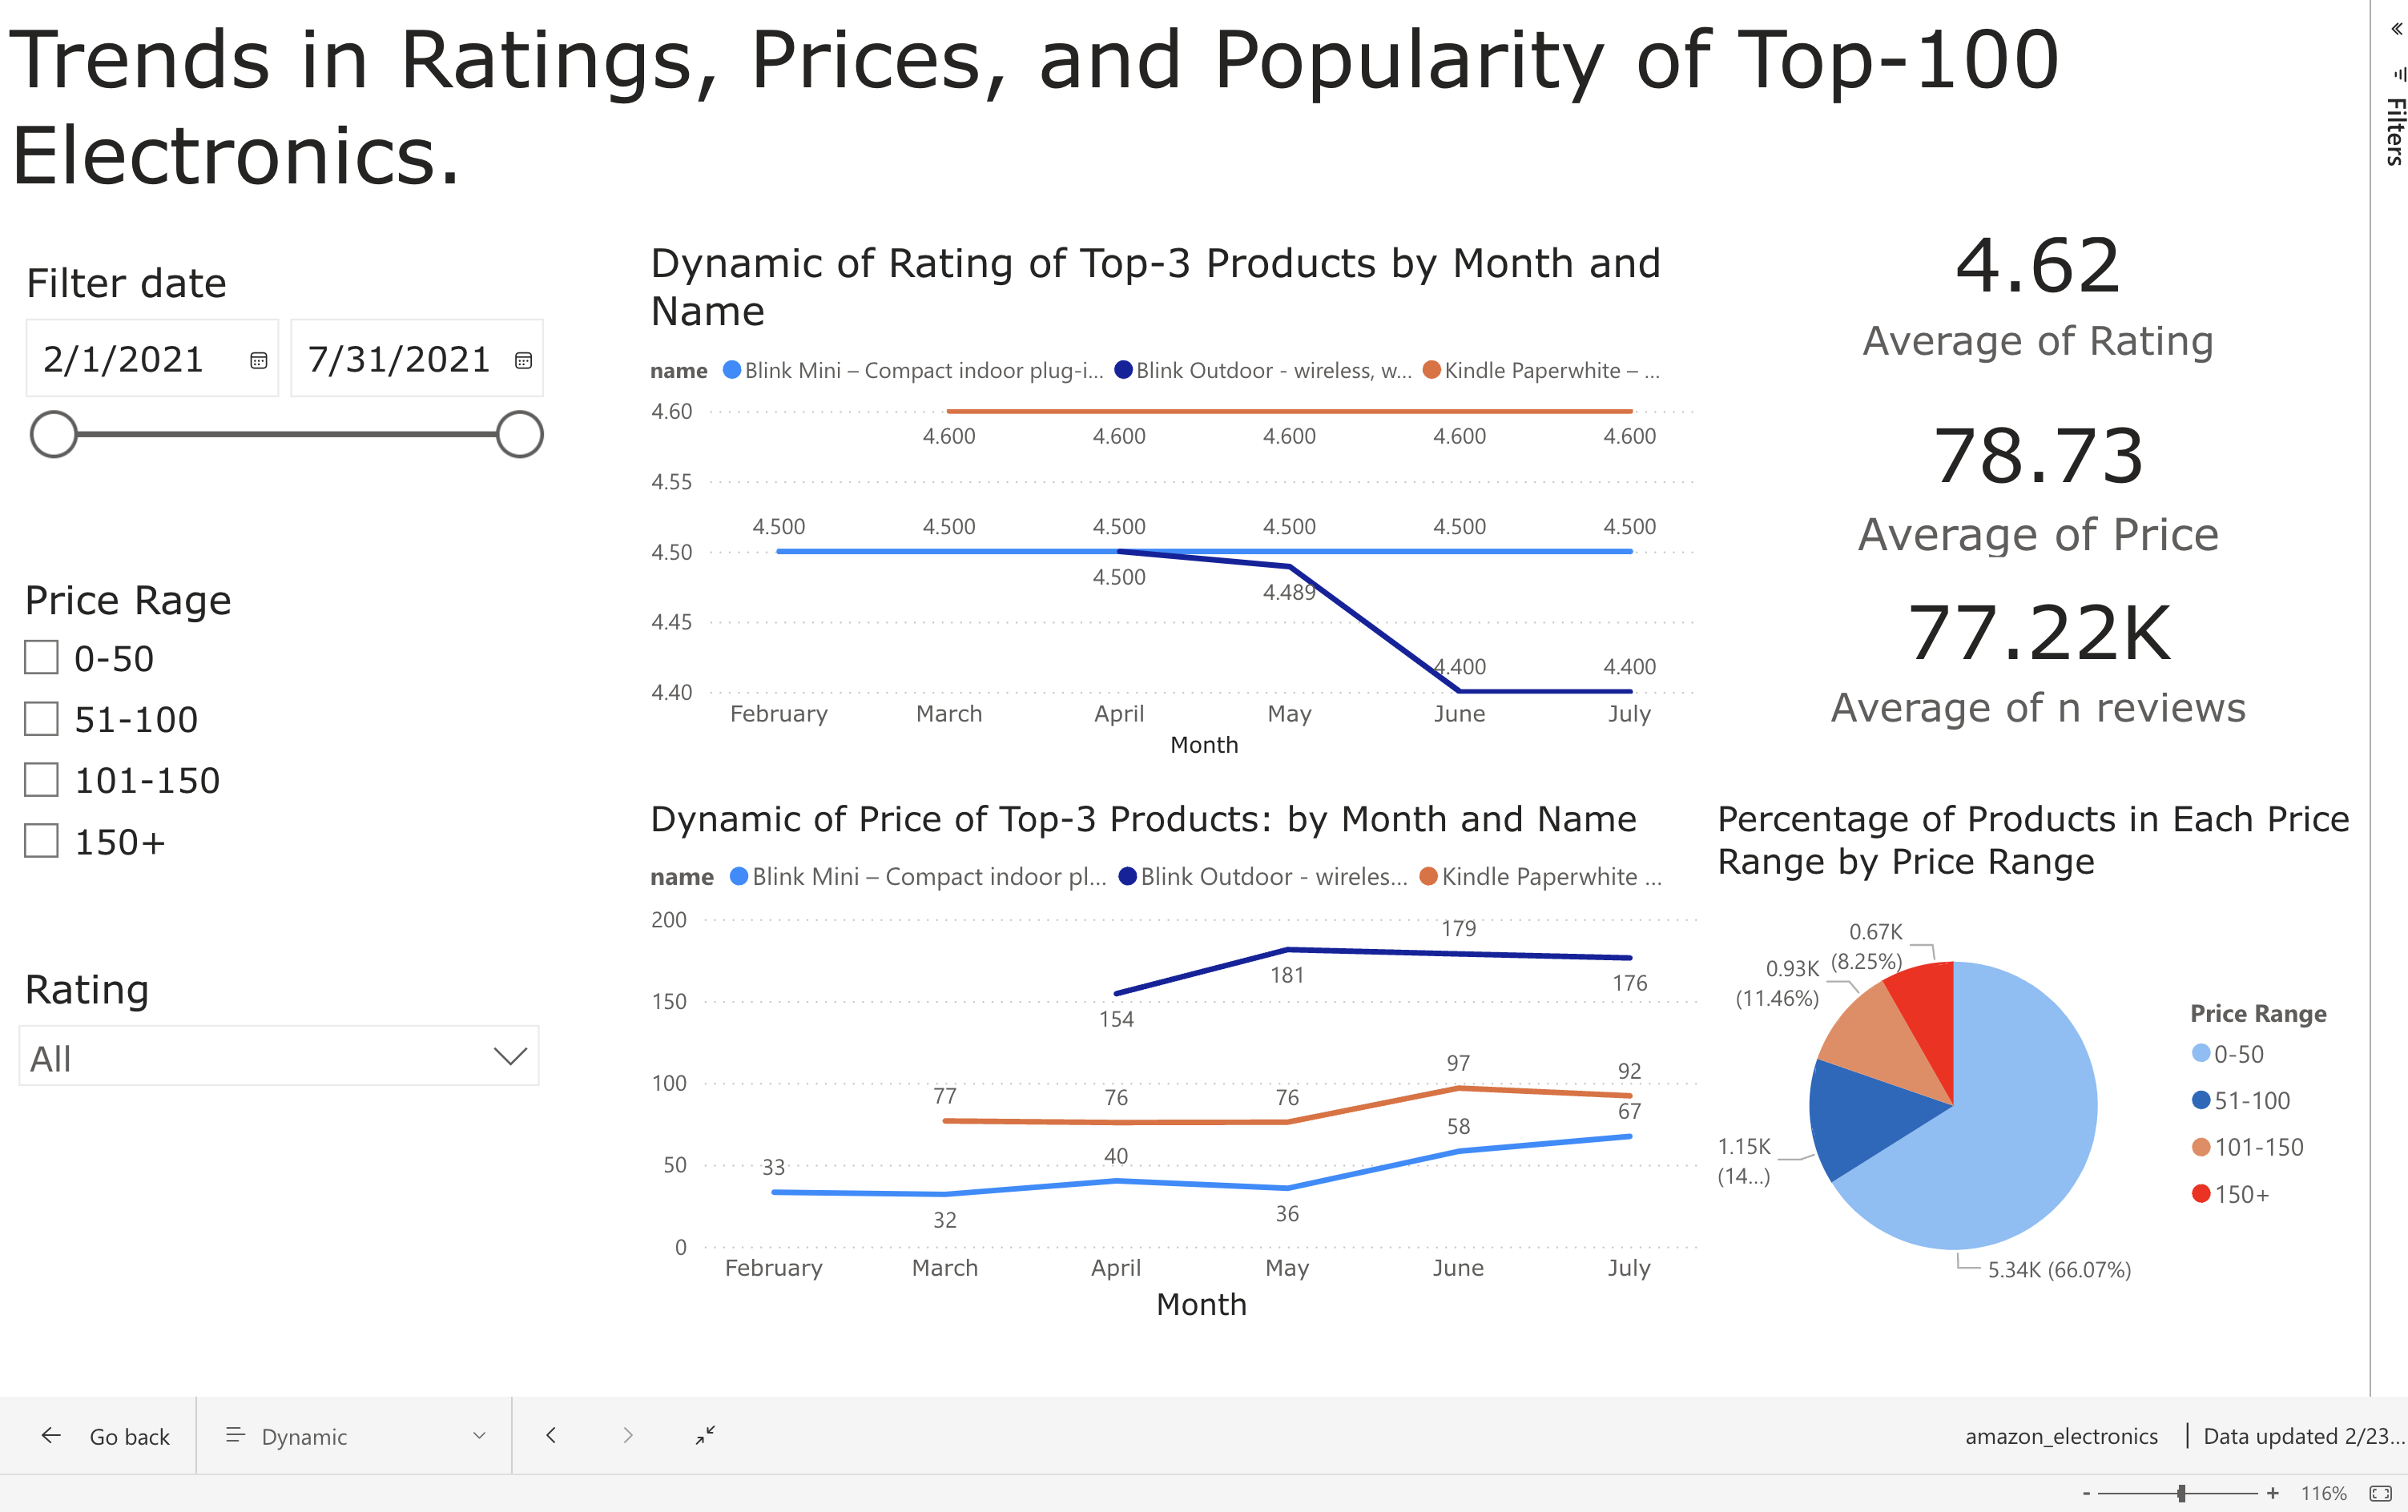

The page's visual inventory and layout, read from the dashboard file:
{"tool":"powerbi","page":{"name":"Page 1","canvas":[1280,720],"ordinal":0},"visuals":[{"type":"card","fields":{"Values":["Avg(electronics_data.rating)"]},"box":[1092.9,104.3,187.1,92.9],"z":0},{"type":"slicer","fields":{"Values":["electronics_data.date"]},"box":[0,77.1,225.7,174.3],"z":1000},{"type":"clusteredBarChart","fields":{"Category":["electronics_data.name"],"Y":["electronics_data.Frequency"]},"box":[225,76.7,843.3,160],"z":2000},{"type":"textbox","box":[0,0,1280,75],"z":3000},{"type":"clusteredBarChart","fields":{"Y":["Sum(electronics_data.CombinedScore1)"],"Category":["electronics_data.name"]},"box":[225.7,248.6,842.9,171.4],"z":4000},{"type":"card","fields":{"Values":["Avg(electronics_data.price)"]},"box":[1092.9,197.1,187.1,100],"z":5000},{"type":"card","fields":{"Values":["Avg(electronics_data.n_reviews)"]},"box":[1108.6,297.1,171.4,94.3],"z":6000},{"type":"pieChart","fields":{"Category":["electronics_data.Price Category"],"Y":["CountNonNull(electronics_data.Price Category)"]},"box":[922.1,455.6,358.1,264.8],"z":7000},{"type":"lineChart","fields":{"Category":["electronics_data.date.Variation.Date Hierarchy.Month"],"Y":["Avg(electronics_data.price)"],"Series":["electronics_data.name"]},"box":[447.3,455.6,474.8,264.8],"z":8000},{"type":"slicer","fields":{"Values":["electronics_data.Price Category"]},"box":[0,174.3,225.7,141.4],"z":9000},{"type":"slicer","fields":{"Values":["electronics_data.rating"]},"box":[0,315,226,150],"z":10000},{"type":"lineChart","fields":{"Category":["electronics_data.date.Variation.Date Hierarchy.Month"],"Y":["Avg(electronics_data.rating)"],"Series":["electronics_data.name"]},"box":[0,455.6,447.3,264.8],"z":11000}]}

Visuals, with their boxes on the page's 1280x720 design canvas (x1, y1, x2, y2). These are canvas units, not pixel positions in the 2408x1512 screenshot, which may show the page scaled, cropped or inside an application window:
card - Avg(electronics_data.rating): [1093, 104, 1280, 197]
slicer - electronics_data.date: [0, 77, 226, 251]
clusteredBarChart - electronics_data.name x electronics_data.Frequency: [225, 77, 1068, 237]
textbox: [0, 0, 1280, 75]
clusteredBarChart - Sum(electronics_data.CombinedScore1) x electronics_data.name: [226, 249, 1069, 420]
card - Avg(electronics_data.price): [1093, 197, 1280, 297]
card - Avg(electronics_data.n_reviews): [1109, 297, 1280, 391]
pieChart - electronics_data.Price Category x CountNonNull(electronics_data.Price Category): [922, 456, 1280, 720]
lineChart - electronics_data.date.Variation.Date Hierarchy.Month x Avg(electronics_data.price): [447, 456, 922, 720]
slicer - electronics_data.Price Category: [0, 174, 226, 316]
slicer - electronics_data.rating: [0, 315, 226, 465]
lineChart - electronics_data.date.Variation.Date Hierarchy.Month x Avg(electronics_data.rating): [0, 456, 447, 720]
